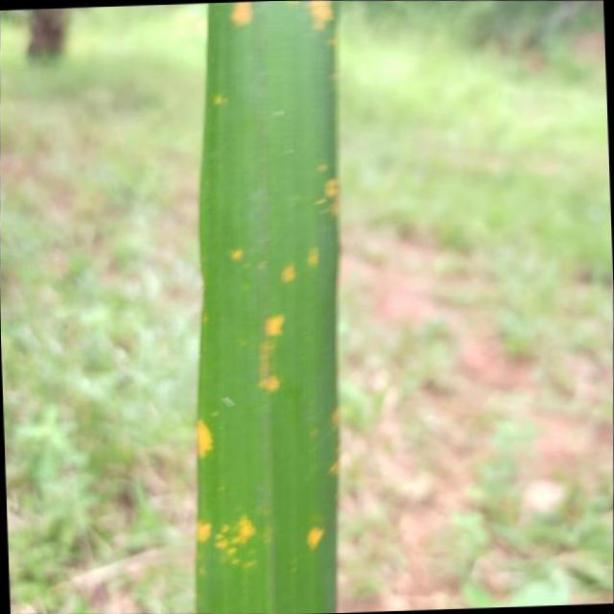Kalium: (201, 0, 339, 614)
